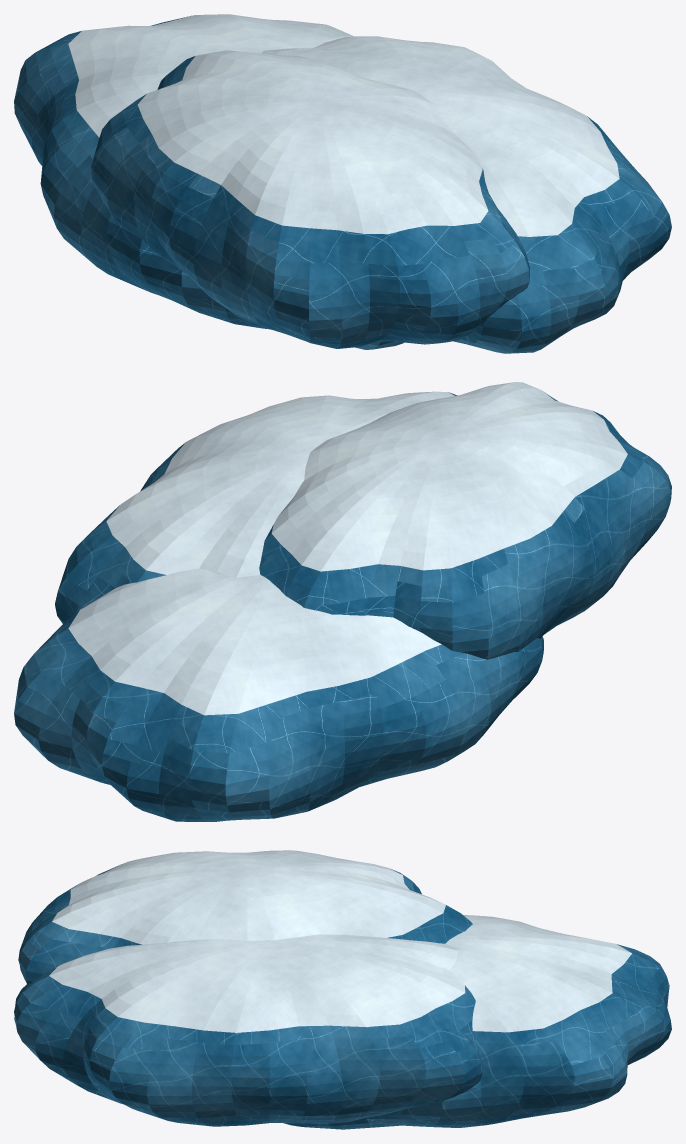
The model's file is BossRoom_IceBoulder.fbx.
The picture shows the model from 3 angles, top to bottom: view 1: azimuth 30°, elevation 25°; view 2: azimuth 150°, elevation 25°; view 3: azimuth 270°, elevation 25°; orthographic projection. The views are drawn at different scales.
Parts seen in each view (by area): view 1: WO_BossRoom_IceBoulder_LOD0; view 2: WO_BossRoom_IceBoulder_LOD0; view 3: WO_BossRoom_IceBoulder_LOD0.
Boxes of the visible parts, bbox=[...] form: WO_BossRoom_IceBoulder_LOD0: bbox=[14, 14, 671, 353]; WO_BossRoom_IceBoulder_LOD0: bbox=[14, 382, 671, 821]; WO_BossRoom_IceBoulder_LOD0: bbox=[14, 850, 671, 1129].
Size of what is drawn, in the model's own units: 3.72 by 2.09 by 6.
